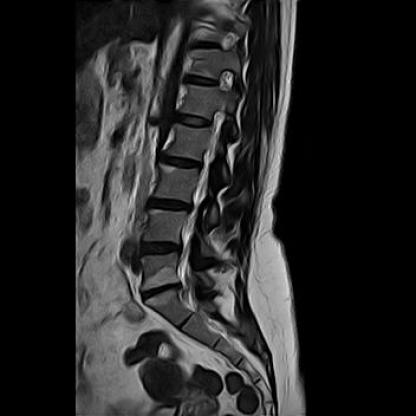Disc Bulgerotation: (139, 238, 184, 259), (137, 283, 182, 300)
